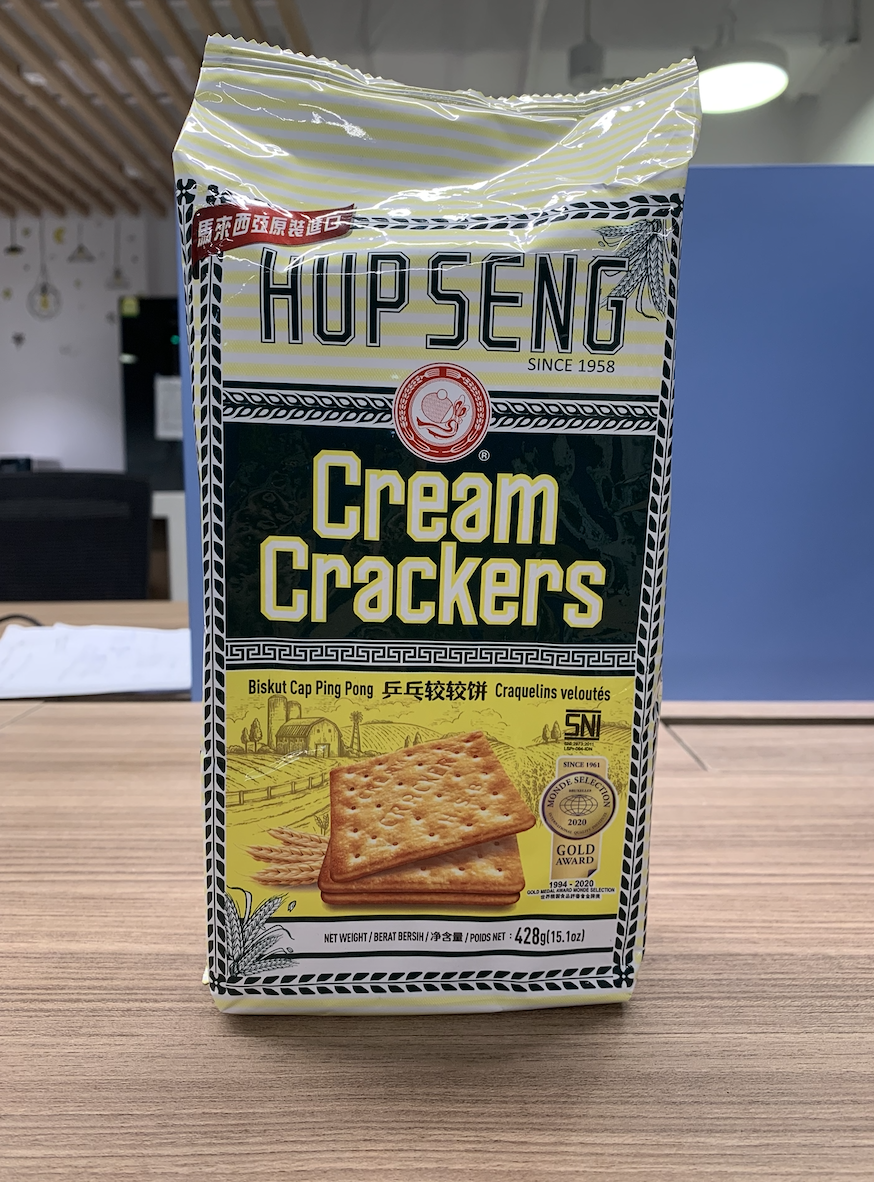crackers_450g: (199, 191, 650, 991)
